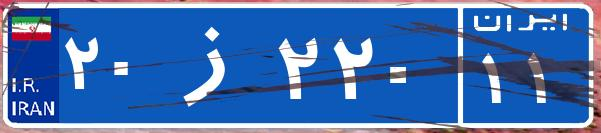0: (385, 28, 445, 110), (110, 28, 158, 105)
1: (475, 38, 525, 113), (525, 38, 570, 115)
2: (273, 28, 330, 110), (330, 28, 385, 110), (57, 26, 110, 107)
ز: (158, 15, 273, 115)
